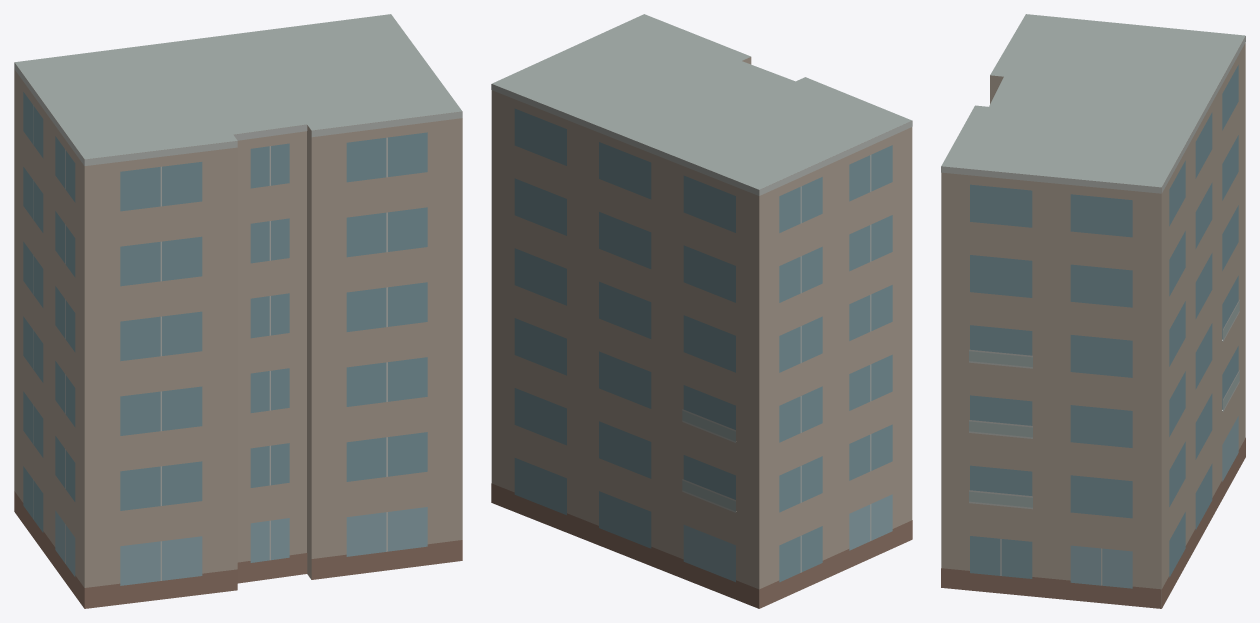
File: survey-upis-32538664.glb
3 views of the same model, side by side, from view 1: azimuth 30°, elevation 25°; view 2: azimuth 150°, elevation 25°; view 3: azimuth 270°, elevation 25° (orthographic). The views are drawn at different scales.
Visible parts, largest first — view 1: survey-upis-32538664.tmp; view 2: survey-upis-32538664.tmp; view 3: survey-upis-32538664.tmp.
Boxes of the visible parts, x1,y1,x2,y2 form: survey-upis-32538664.tmp: [14, 14, 462, 608]; survey-upis-32538664.tmp: [491, 14, 912, 608]; survey-upis-32538664.tmp: [941, 14, 1245, 608].
Size of the model in its own units: 14.39 by 16.3 by 10.69.
